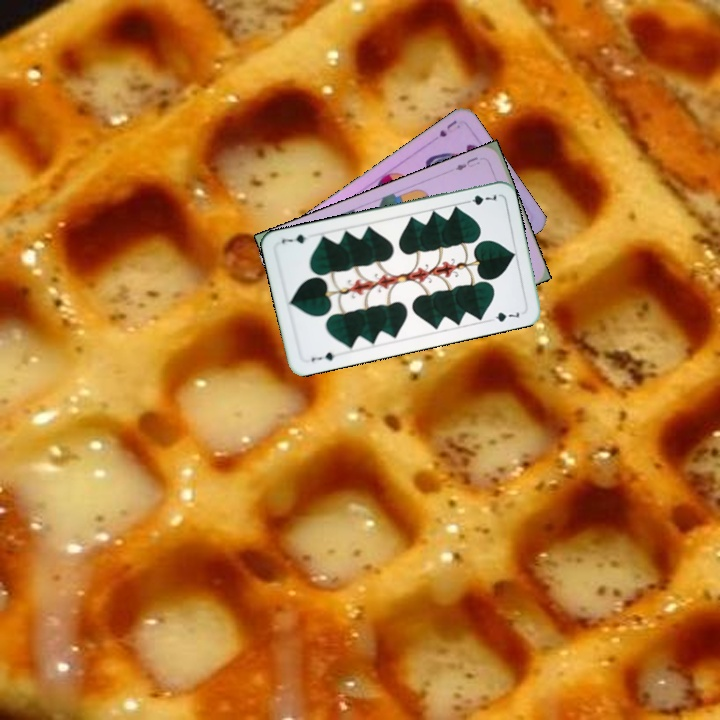EU: (451, 152, 482, 173)
G7: (460, 190, 499, 208), (307, 348, 337, 364)
SU: (435, 116, 460, 140)
